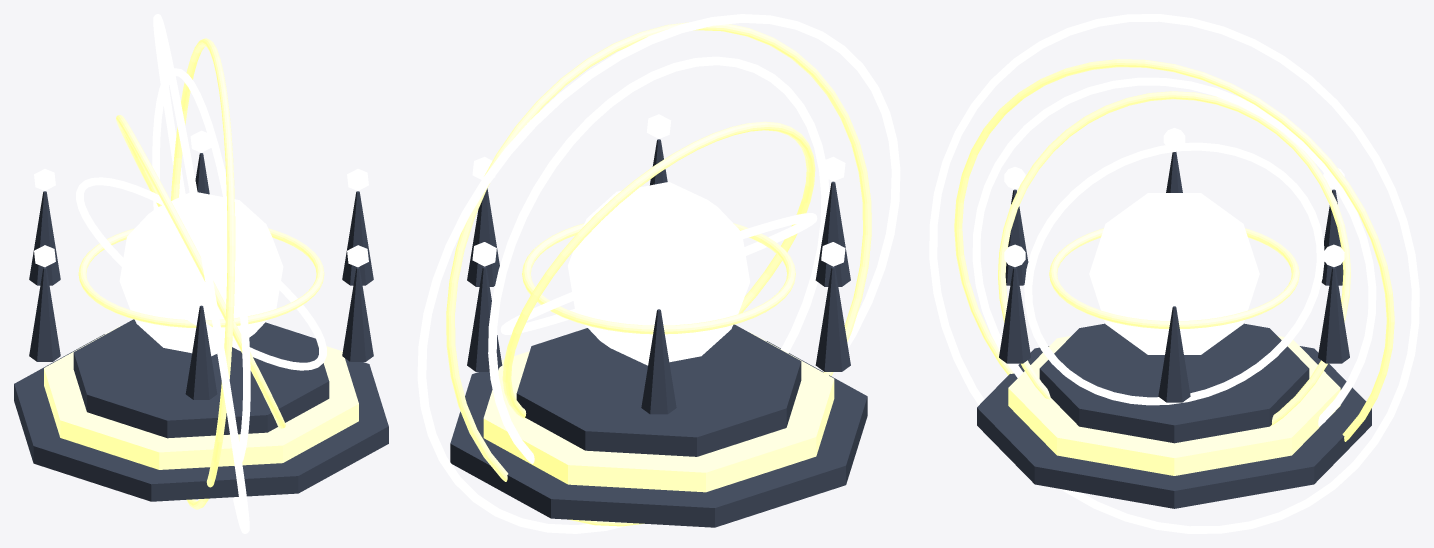
File: gpu-blender-v44.glb
3 renders of one model, left to right at view 1: azimuth 30°, elevation 25°; view 2: azimuth 150°, elevation 25°; view 3: azimuth 270°, elevation 25°, orthographic. The views are drawn at different scales.
Parts seen in each view (by area): view 1: Cylinder.002, Cylinder, SovereignCore_neal-bliki, Cylinder.001, Torus.005, Torus.004, Torus.003, Torus.001, Torus, Torus.002, Cone.003, Cone.005 (+3 smaller); view 2: Cylinder.002, SovereignCore_neal-bliki, Cylinder, Cylinder.001, Torus.005, Torus.004, Torus.003, Torus.002, Torus.001, Torus, Cone.002, Cone.003 (+3 smaller); view 3: SovereignCore_neal-bliki, Cylinder.002, Cylinder, Cylinder.001, Torus.005, Torus.004, Torus.001, Torus.003, Torus.002, Torus, Cone, Cone.001 (+3 smaller).
Part boxes in pixels (x1,y1,x2,y2): Cylinder.002: (73,319,329,438); Cylinder: (14,334,388,501); SovereignCore_neal-bliki: (119,192,283,356); Cylinder.001: (44,326,358,469); Torus.005: (153,14,249,533); Torus.004: (171,38,235,509); Torus.003: (152,68,250,461); Torus.001: (76,177,326,370); Torus: (78,228,324,327); Torus.002: (116,115,285,428); Cone.003: (29,267,60,361); Cone.005: (342,267,373,361); Cylinder.002: (516,324,801,456); SovereignCore_neal-bliki: (568,182,749,365); Cylinder: (450,341,867,527); Cylinder.001: (483,332,834,492); Torus.005: (417,14,900,533); Torus.004: (446,22,871,526); Torus.003: (488,56,829,463); Torus.002: (502,121,815,418); Torus.001: (500,213,817,334); Torus: (522,223,795,334); Cone.002: (641,309,676,414); Cone.003: (815,267,850,371); SovereignCore_neal-bliki: (1089,193,1259,354); Cylinder.002: (1039,323,1309,443); Cylinder: (977,346,1371,508); Cylinder.001: (1008,336,1340,475); Torus.005: (929,14,1419,533); Torus.004: (954,59,1394,441); Torus.001: (1024,142,1324,405); Torus.003: (972,77,1376,426); Torus.002: (998,91,1350,425); Torus: (1049,228,1299,328); Cone: (1158,306,1190,402); Cone.001: (1318,267,1349,363).
Bounding box in the file's own units: 4.41 × 5.93 × 5.46.
